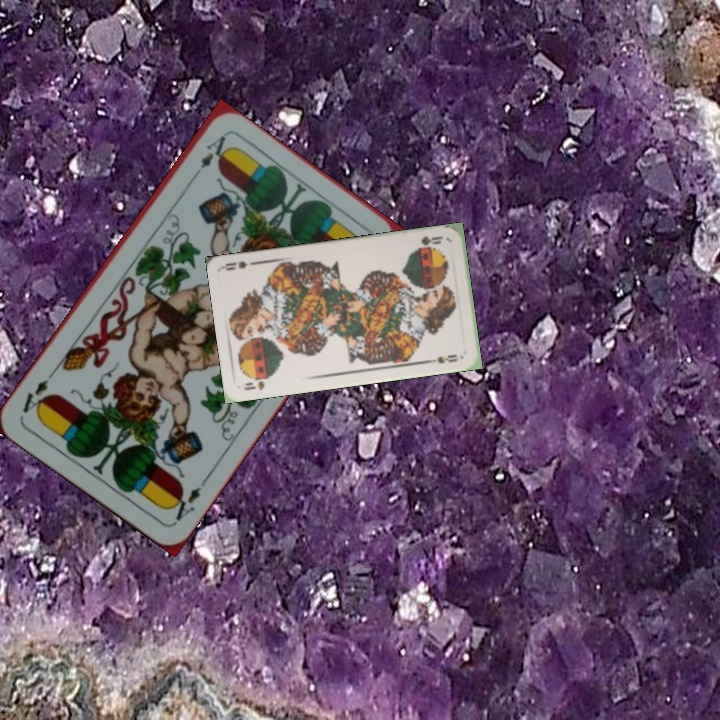EA: (167, 474, 210, 526), (187, 131, 229, 183)
SO: (412, 232, 445, 251), (240, 377, 267, 393)
